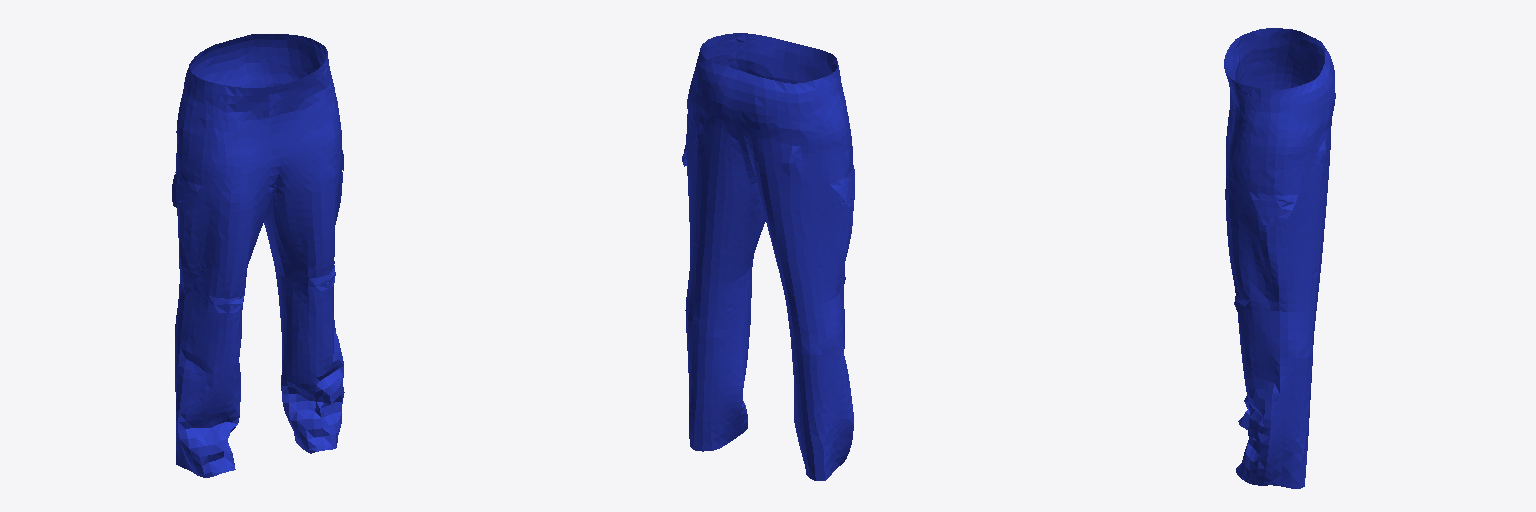
The model's file is pants_blue.obj.
The picture shows the model from 3 angles: view 1: azimuth 30°, elevation 25°; view 2: azimuth 150°, elevation 25°; view 3: azimuth 270°, elevation 25°; orthographic projection.
Parts seen in each view (by area): view 1: CAMO_PANTS_Untitled; view 2: CAMO_PANTS_Untitled; view 3: CAMO_PANTS_Untitled.
Boxes of the visible parts, box(x1,y1,x2,y2) form: CAMO_PANTS_Untitled: box(172, 34, 344, 477); CAMO_PANTS_Untitled: box(682, 33, 854, 480); CAMO_PANTS_Untitled: box(1224, 28, 1335, 488).
Bounding box in the file's own units: 0.7836 × 1.83 × 0.4602.